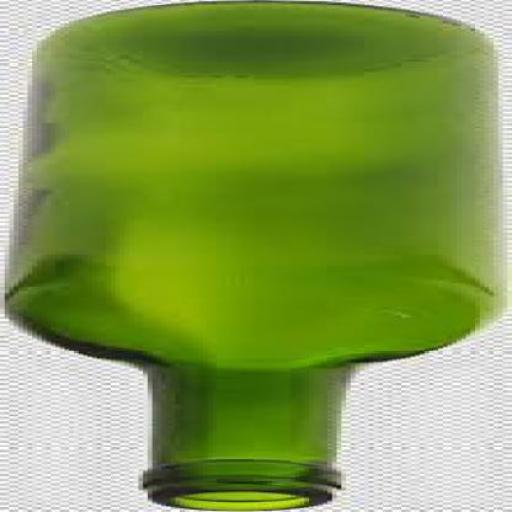glass: (4, 1, 508, 511)
